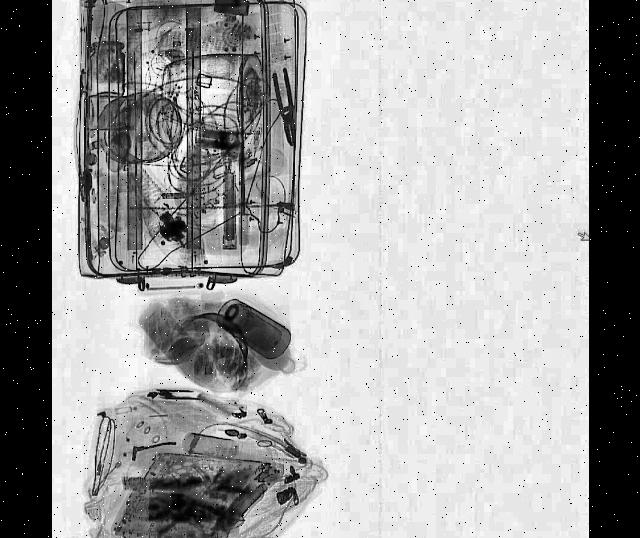Pliers: (271, 68, 299, 148)
